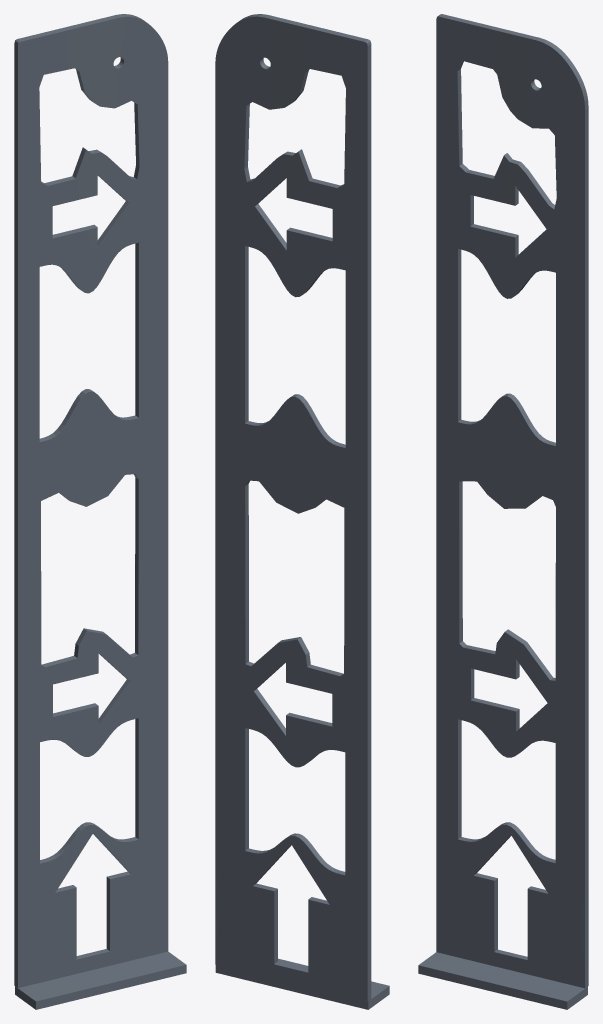
3 views of the same model, side by side, from view 1: azimuth 30°, elevation 25°; view 2: azimuth 150°, elevation 25°; view 3: azimuth 330°, elevation 25° (orthographic). The views are drawn at different scales.
Visible parts, largest first — view 1: 120938; view 2: 120938; view 3: 120938.
Boxes of the visible parts, x1=… form: 120938: x1=14, y1=14, x2=186, y2=1009; 120938: x1=215, y1=14, x2=389, y2=1009; 120938: x1=418, y1=14, x2=588, y2=1009.
Bounding box in the file's own units: 0.0372 × 0.2257 × 0.00925.
Materials: 1 (1 with a texture image).
